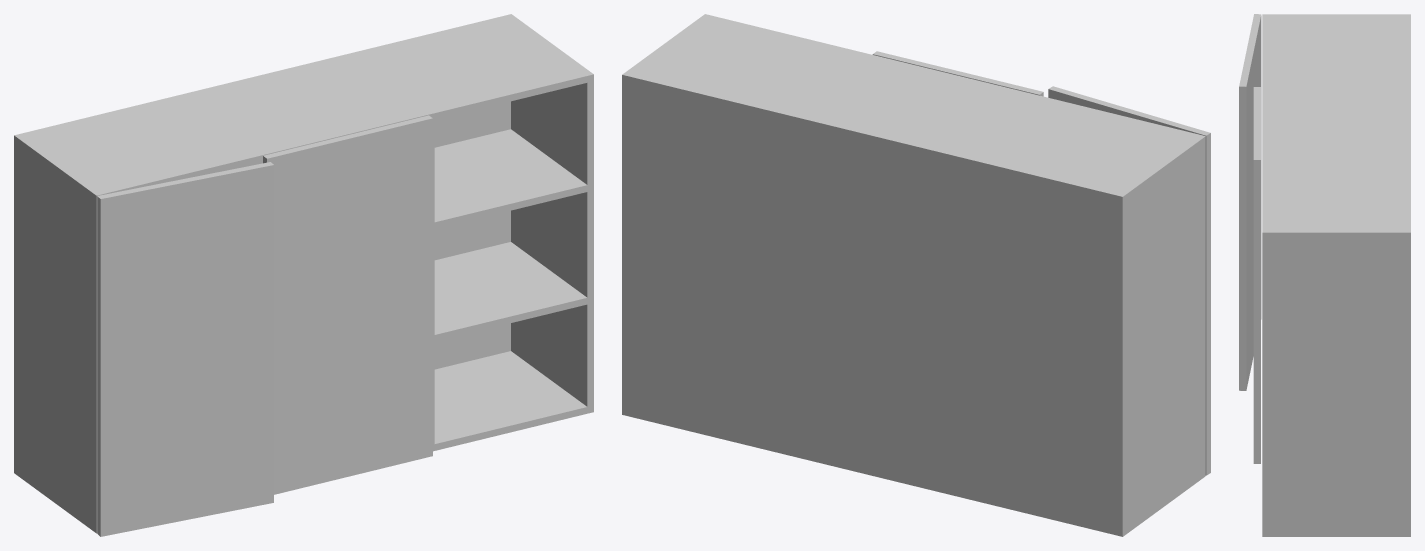
The model's file is LC_3090_ShelfB_LOD3.FBX.
The picture shows the model from 3 angles, left to right: view 1: azimuth 30°, elevation 25°; view 2: azimuth 150°, elevation 25°; view 3: azimuth 270°, elevation 25°; orthographic projection. The views are drawn at different scales.
Visible parts, largest first — view 1: LC_3090_ShelfB_LOD3; view 2: LC_3090_ShelfB_LOD3; view 3: LC_3090_ShelfB_LOD3.
Part boxes in pixels (x1=…): LC_3090_ShelfB_LOD3: x1=14, y1=14, x2=593, y2=536; LC_3090_ShelfB_LOD3: x1=622, y1=14, x2=1210, y2=536; LC_3090_ShelfB_LOD3: x1=1239, y1=14, x2=1410, y2=536.
Size of the model in its own units: 119 by 77 by 39.4.
Materials: 1 (1 with a texture image).
